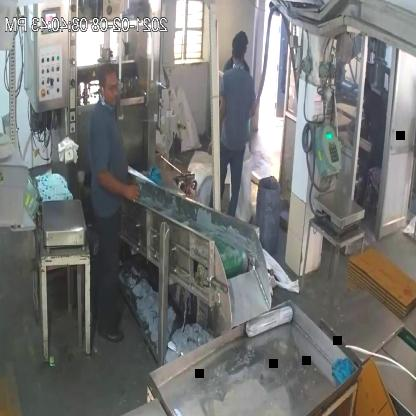no_glove: (88, 171, 149, 210)
